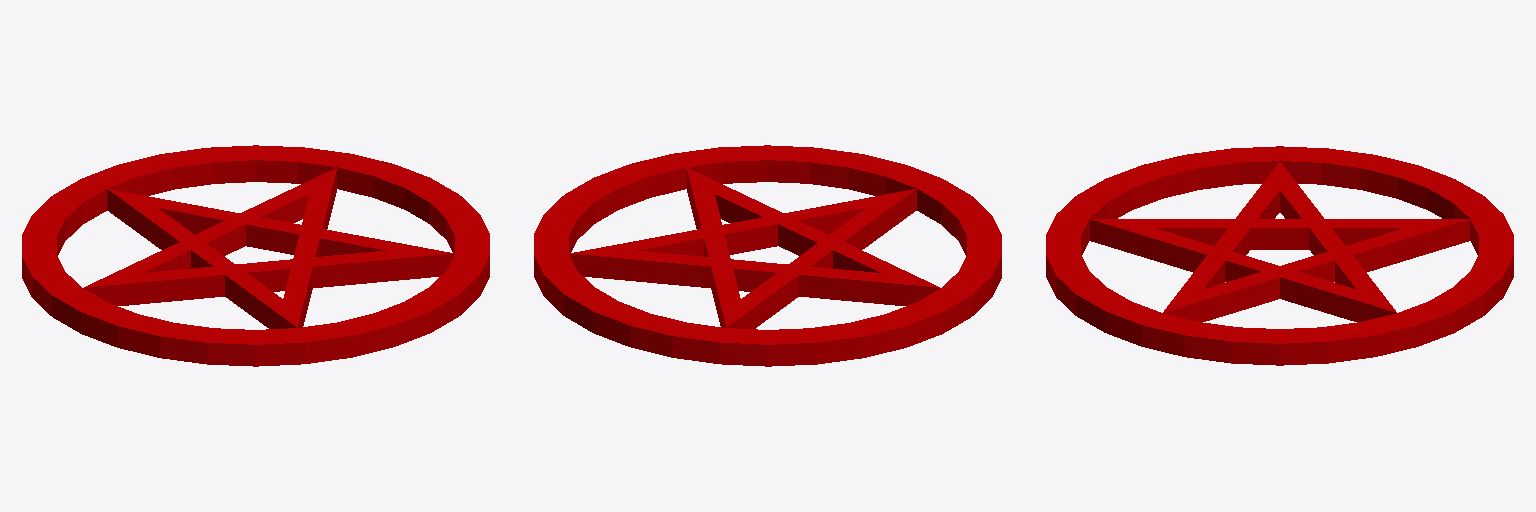
File: pentagram.obj
3 renders of one model, left to right at view 1: azimuth 30°, elevation 25°; view 2: azimuth 150°, elevation 25°; view 3: azimuth 270°, elevation 25°, orthographic.
Parts seen in each view (by area): view 1: pentagram; view 2: pentagram; view 3: pentagram.
Boxes of the visible parts, x1,y1,x2,y2 form: pentagram: [22, 145, 489, 366]; pentagram: [534, 145, 1001, 366]; pentagram: [1046, 146, 1513, 365].
Bounding box in the file's own units: 5.53 × 0.3003 × 5.5.